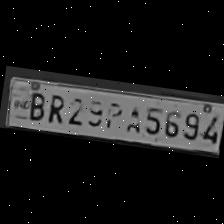2: (62, 92, 86, 126)
4: (198, 110, 222, 144)
5: (140, 103, 164, 136)
6: (160, 106, 182, 139)
9: (82, 94, 106, 129), (178, 108, 202, 140)
A: (122, 101, 143, 135)
B: (22, 87, 47, 121)
P: (103, 98, 122, 132)
R: (42, 90, 66, 124)
